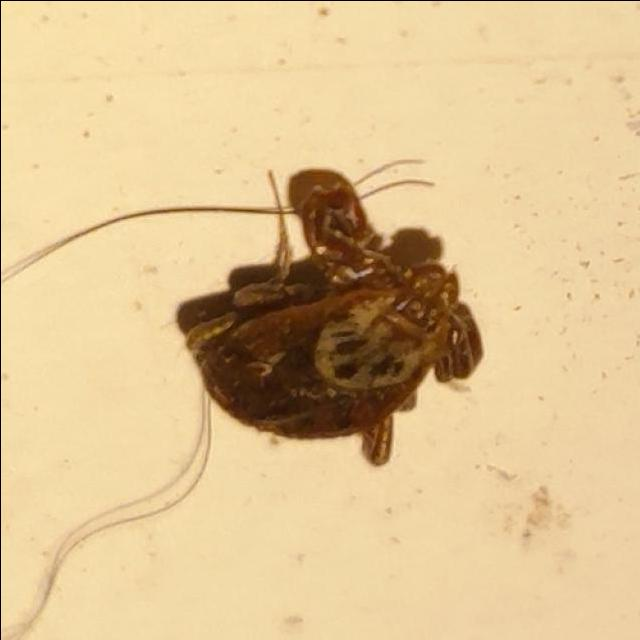Dermacentor Reticulatus-F: (193, 180, 483, 466)
